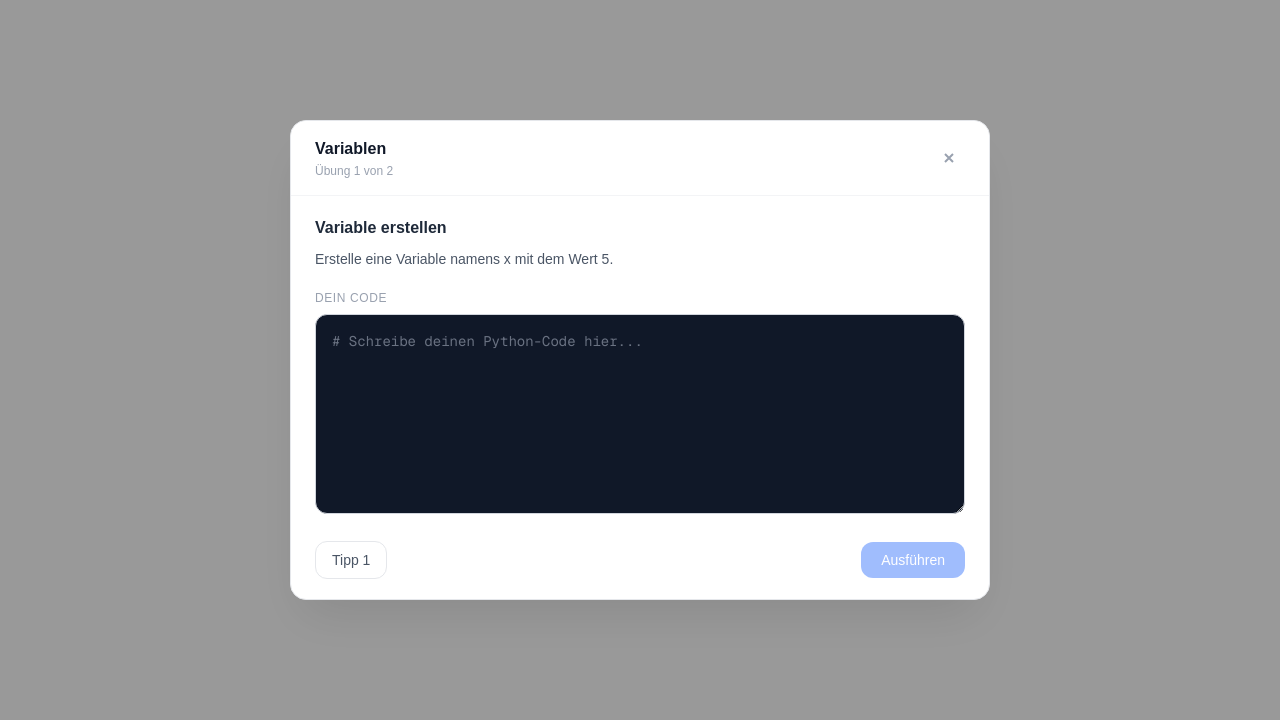
Scenario: ExerciseModal › shows Teilweise banner when submitExercise returns teilweise
Check: the heading "Variable erstellen" is shown, box [315,219,447,236]
In the text box: (640, 414) [315,314,965,514], type "x = 5"
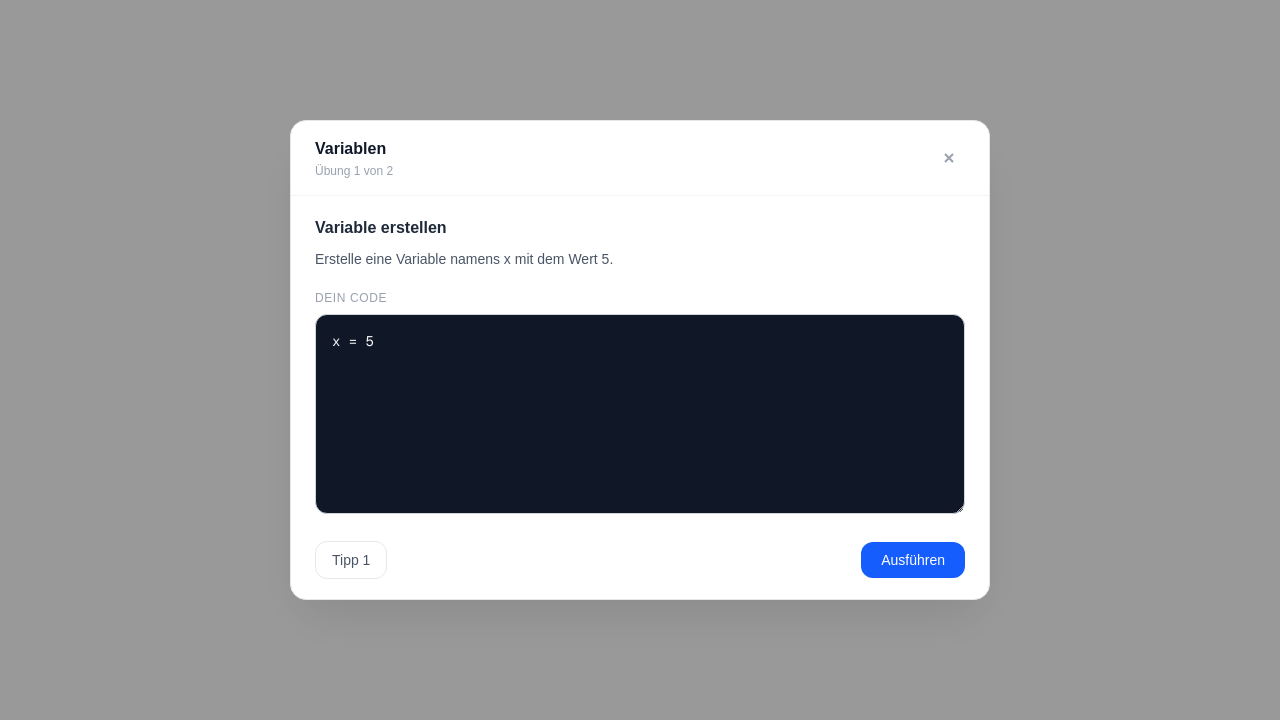
Click the button "Ausführen": (913, 560) [861,542,965,578]
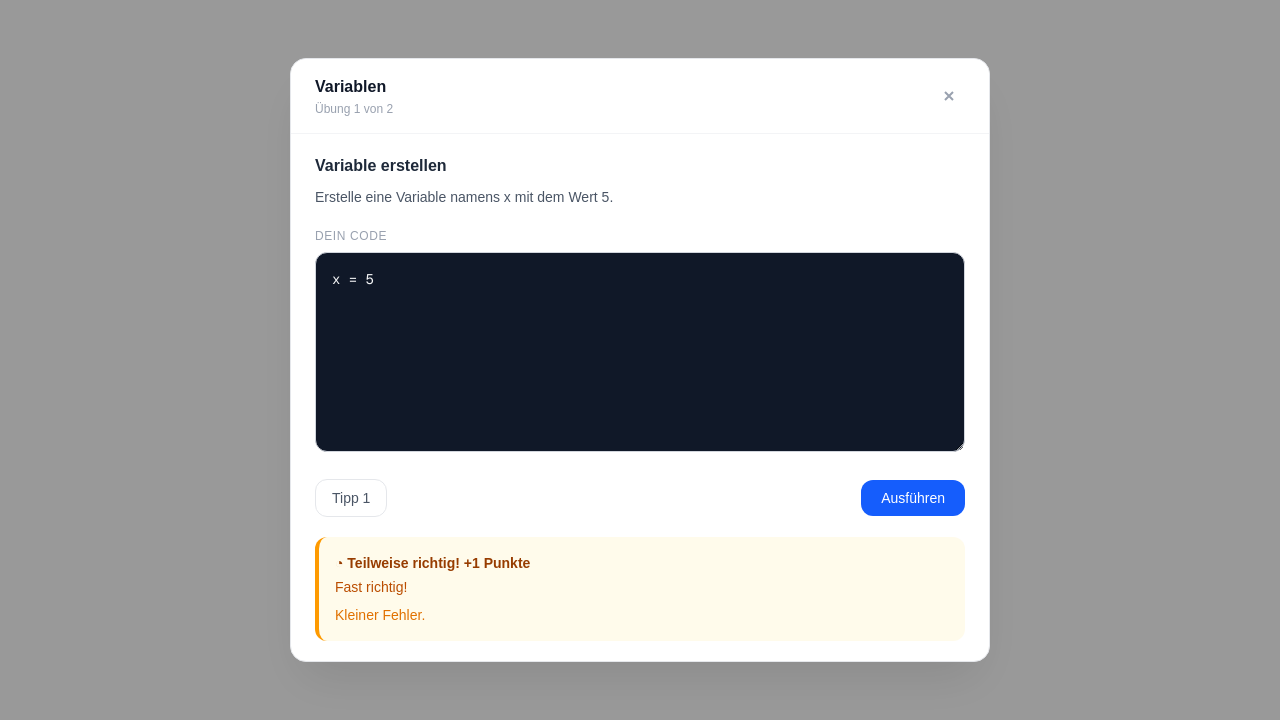
Check: the text "◔ Teilweise richtig! +1 Punkte" is shown, box [335,555,530,571]
Check: the text "Fast richtig!" is shown, box [335,579,407,595]
Check: the text "Kleiner Fehler." is shown, box [335,607,425,623]
